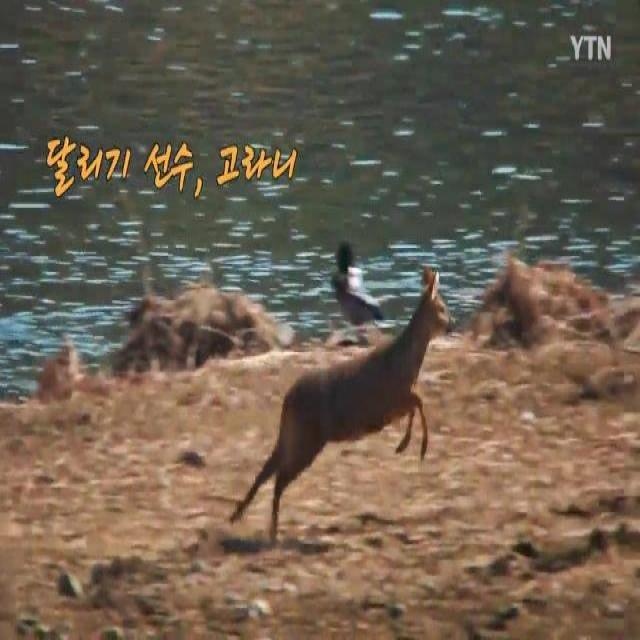deer: (230, 265, 456, 543)
